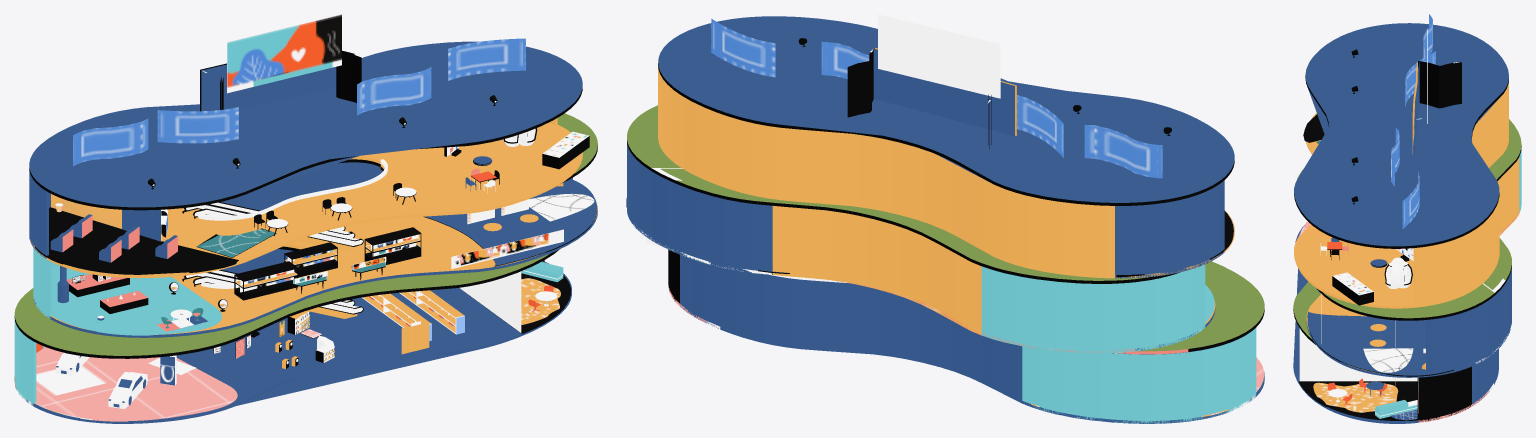
3 renders of one model, left to right at view 1: azimuth 30°, elevation 25°; view 2: azimuth 150°, elevation 25°; view 3: azimuth 270°, elevation 25°, orthographic. The views are drawn at different scales.
Parts seen in each view (by area): view 1: 商场, 封顶_1_1_4, 立方体_21, 封顶_1_2, 封顶_1_1_2, 封顶_1_1_3, 购物袋, 空白_1, 放样_1, 放样_3, 放样, 放样_2 (+17 smaller); view 2: 商场, 立方体_21, 购物袋, 放样, 放样_3, 放样_1, 放样_2; view 3: 商场, 封顶_1_1_3, 购物袋, 立方体_1_2, 封顶_1_2_3, 挤压_1, 封顶_2, 立方体_10, 立方体_3_3, 放样_3, 放样_1, 封顶_1_1_2 (+4 smaller).
Part boxes in pixels (x1,y1,x2,y2): 商场: (14, 41, 597, 423); 封顶_1_1_4: (14, 347, 237, 421); 立方体_21: (227, 14, 341, 93); 封顶_1_2: (52, 265, 221, 335); 封顶_1_1_2: (35, 207, 238, 274); 封顶_1_1_3: (423, 180, 597, 266); 购物袋: (200, 50, 361, 111); 空白_1: (182, 202, 363, 318); 放样_1: (157, 107, 238, 143); 放样_3: (448, 38, 525, 80); 放样: (73, 118, 148, 166); 放样_2: (357, 67, 431, 115); 商场: (627, 16, 1264, 423); 立方体_21: (878, 14, 1000, 98); 购物袋: (847, 47, 1016, 148); 放样: (1084, 125, 1162, 178); 放样_3: (711, 18, 775, 77); 放样_1: (1017, 95, 1063, 157); 放样_2: (821, 41, 869, 78); 商场: (1293, 23, 1521, 423); 封顶_1_1_3: (1307, 311, 1453, 376); 购物袋: (1412, 61, 1461, 158); 立方体_1_2: (1299, 328, 1417, 381); 封顶_1_2_3: (1313, 382, 1398, 412); 挤压_1: (1299, 381, 1417, 420); 封顶_2: (1363, 348, 1413, 372); 立方体_10: (1332, 272, 1373, 305); 立方体_3_3: (1375, 400, 1417, 418); 放样_3: (1402, 172, 1419, 228); 放样_1: (1405, 51, 1435, 106); 封顶_1_1_2: (1303, 114, 1324, 142).
Bounding box in the file's own units: 3057 × 1522 × 1213.
